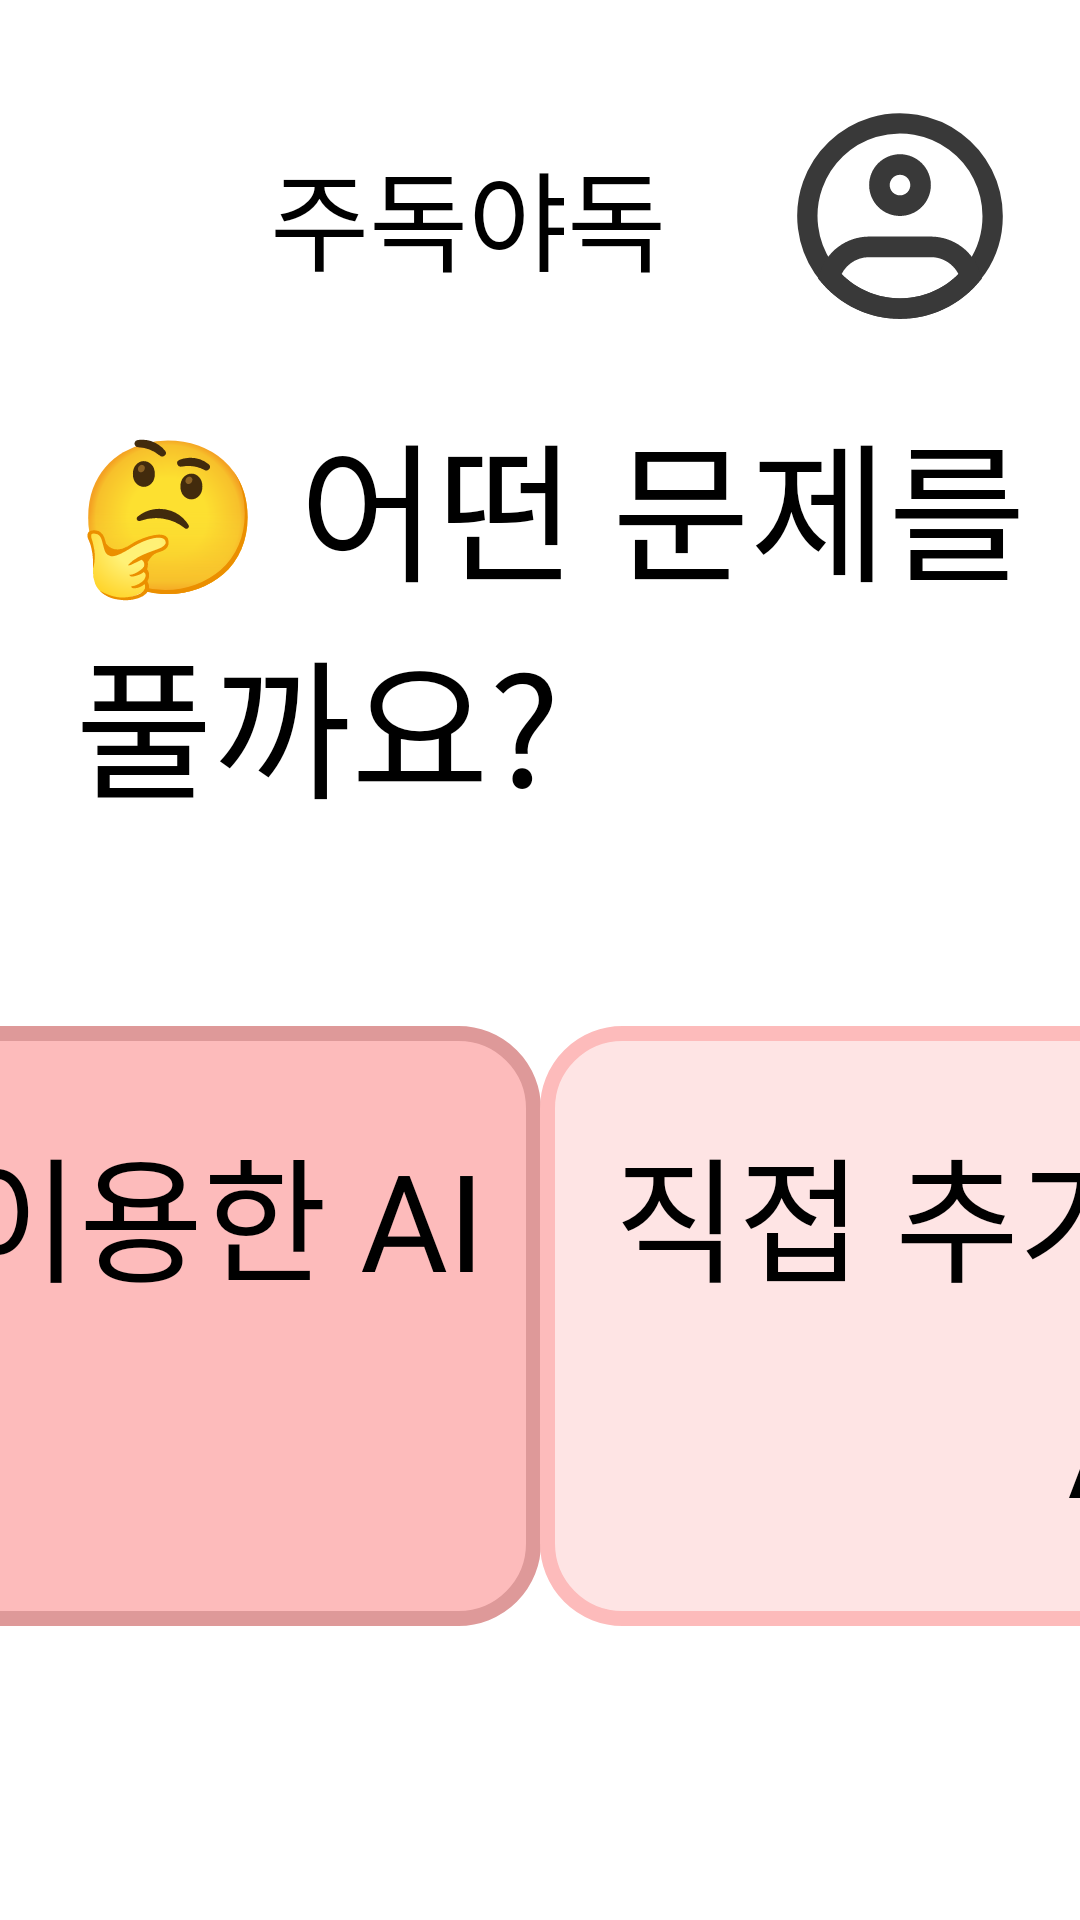

Where icons sit on this 1080×1920 app screen, as bbox=(x1, y1, x2, y2):
profile: bbox=(797, 113, 1003, 319)
